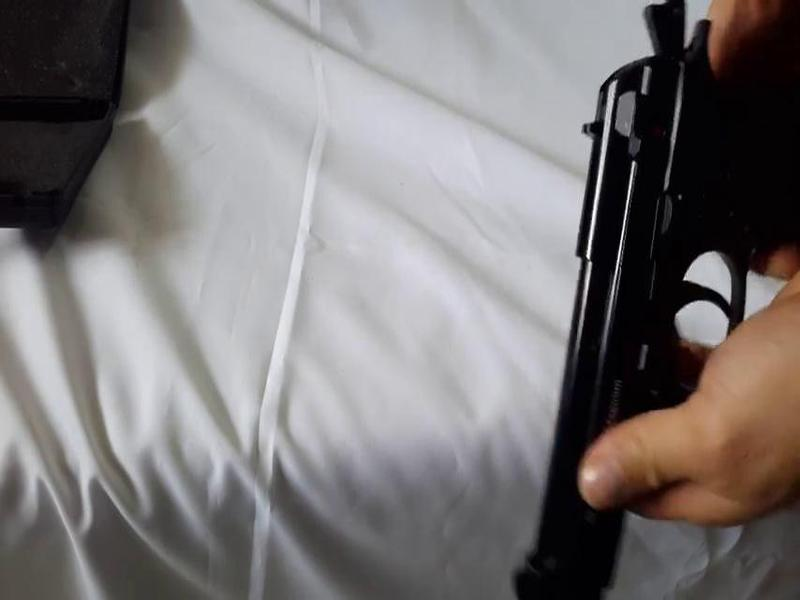Pistola: (488, 1, 797, 592)
